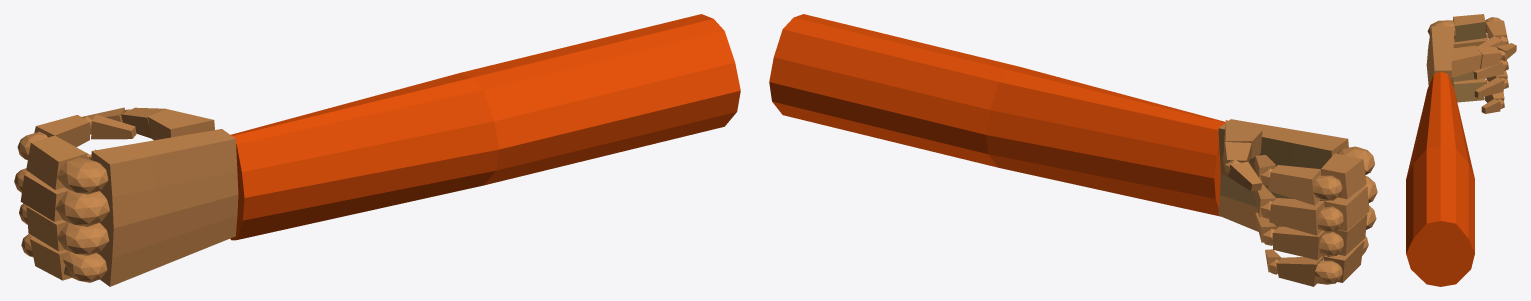
Rendered from HandFull.fbx.
3 renders of one model, left to right at view 1: azimuth 30°, elevation 25°; view 2: azimuth 150°, elevation 25°; view 3: azimuth 270°, elevation 25°, orthographic. The views are drawn at different scales.
Parts seen in each view (by area): view 1: Arm, Hand; view 2: Arm, Hand; view 3: Arm, Hand.
Part boxes in pixels (x1,y1,x2,y2): Arm: [230, 14, 740, 240]; Hand: [14, 107, 238, 286]; Arm: [769, 14, 1225, 216]; Hand: [1218, 119, 1377, 286]; Arm: [1406, 71, 1474, 286]; Hand: [1426, 14, 1516, 113].
Bounding box in the file's own units: 2941 × 548 × 678.
